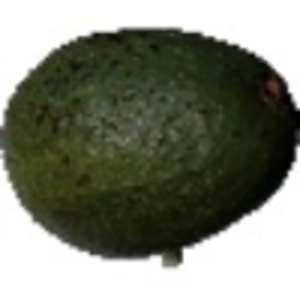abacate: (1, 23, 297, 255)
